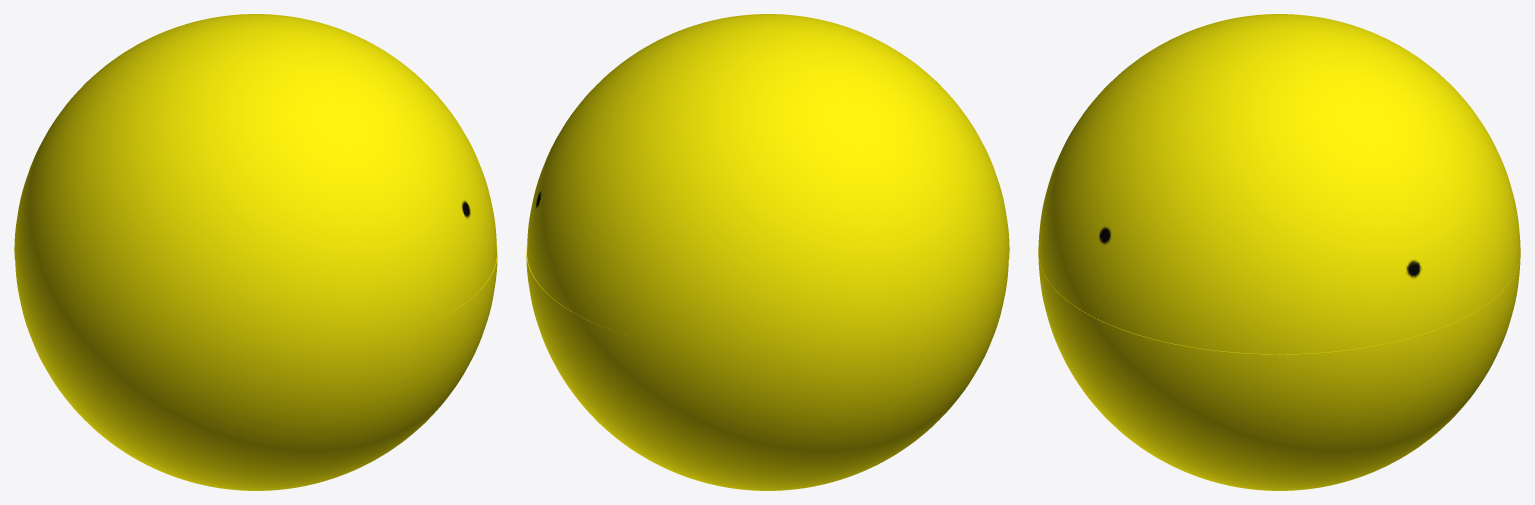
The model's file is pac man mouth closed.fbx.
3 views of the same model, side by side, from view 1: azimuth 30°, elevation 25°; view 2: azimuth 150°, elevation 25°; view 3: azimuth 270°, elevation 25° (orthographic).
Parts seen in each view (by area): view 1: root (×2); view 2: root (×2); view 3: root (×2).
Boxes of the visible parts, left/top/right/bottom form: root (×2): left=14, top=14, right=497, bottom=490; root (×2): left=526, top=14, right=1009, bottom=490; root (×2): left=1038, top=14, right=1520, bottom=490.
Bounding box in the file's own units: 0.1495 × 0.1471 × 0.1493.
Materials: 2 (1 with a texture image).
